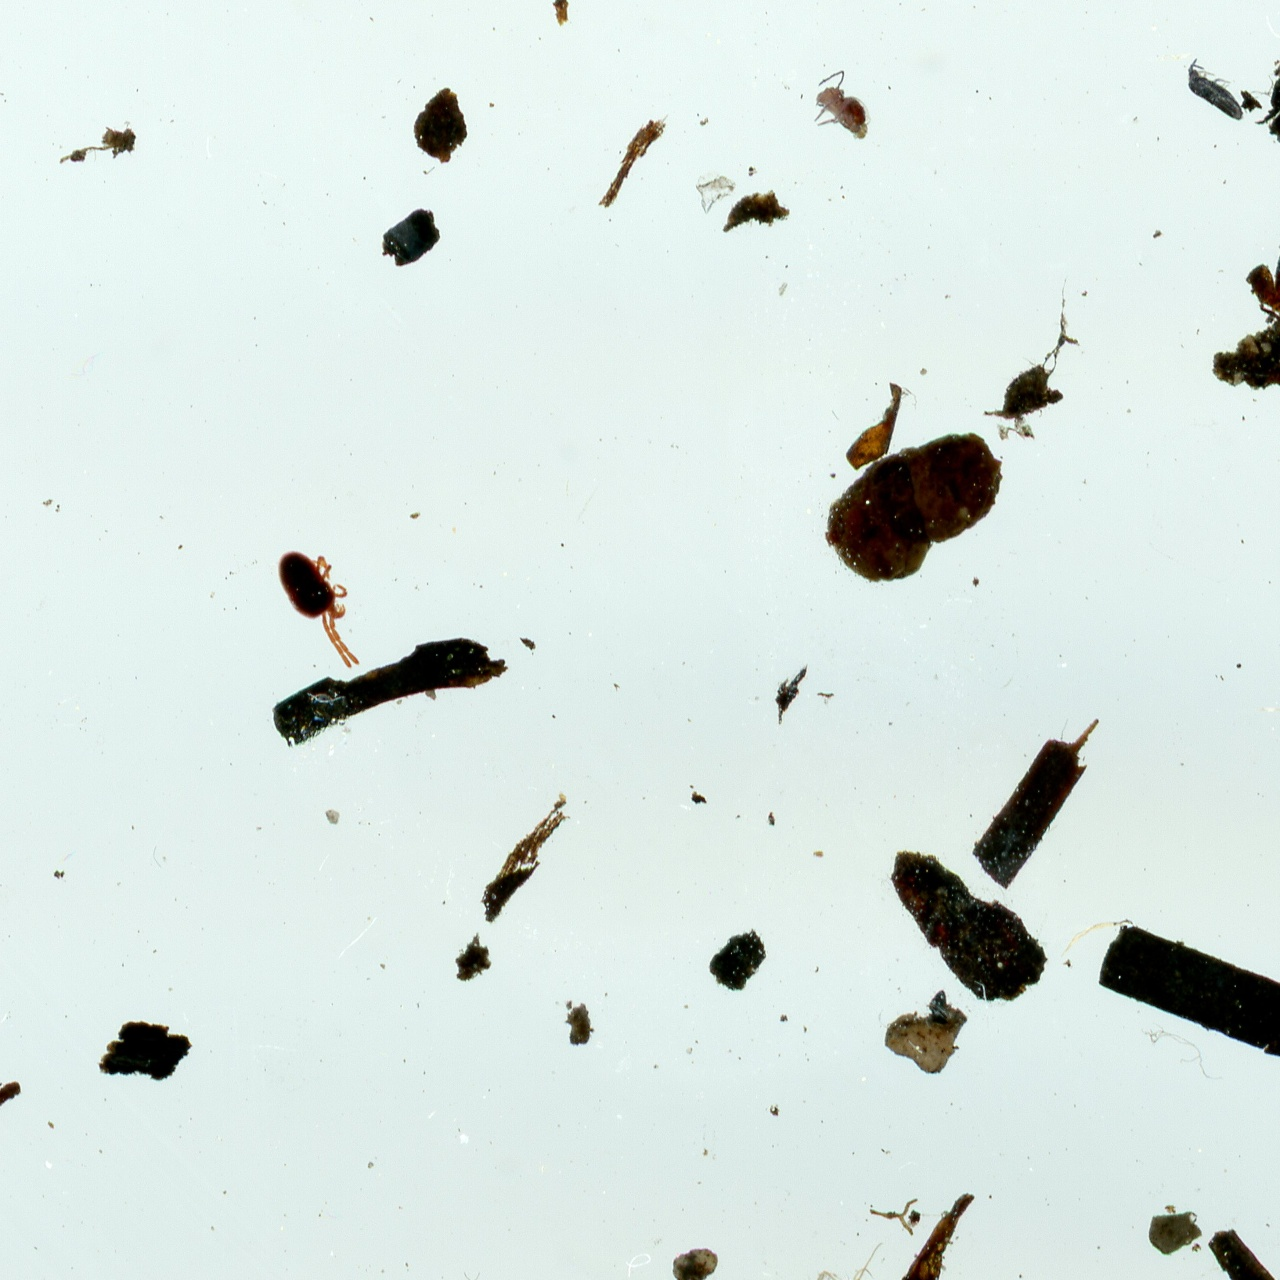arthropod: (274, 546, 375, 669), (809, 64, 878, 152), (1185, 50, 1253, 128), (654, 1262, 881, 1280), (1267, 433, 1280, 509)
